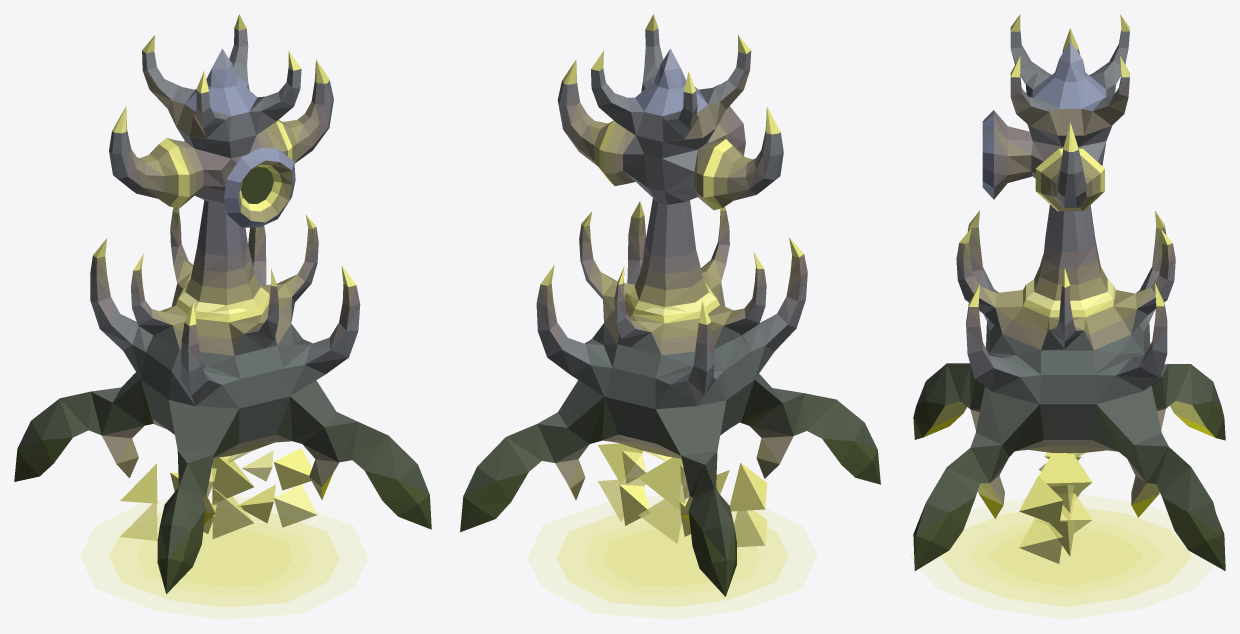
File: thermonuclear-smoke-devil.gltf
3 renders of one model, left to right at view 1: azimuth 30°, elevation 25°; view 2: azimuth 150°, elevation 25°; view 3: azimuth 270°, elevation 25°, orthographic.
Size of the model in its own units: 225 by 414 by 228.
Materials: 2 (2 with a texture image).
